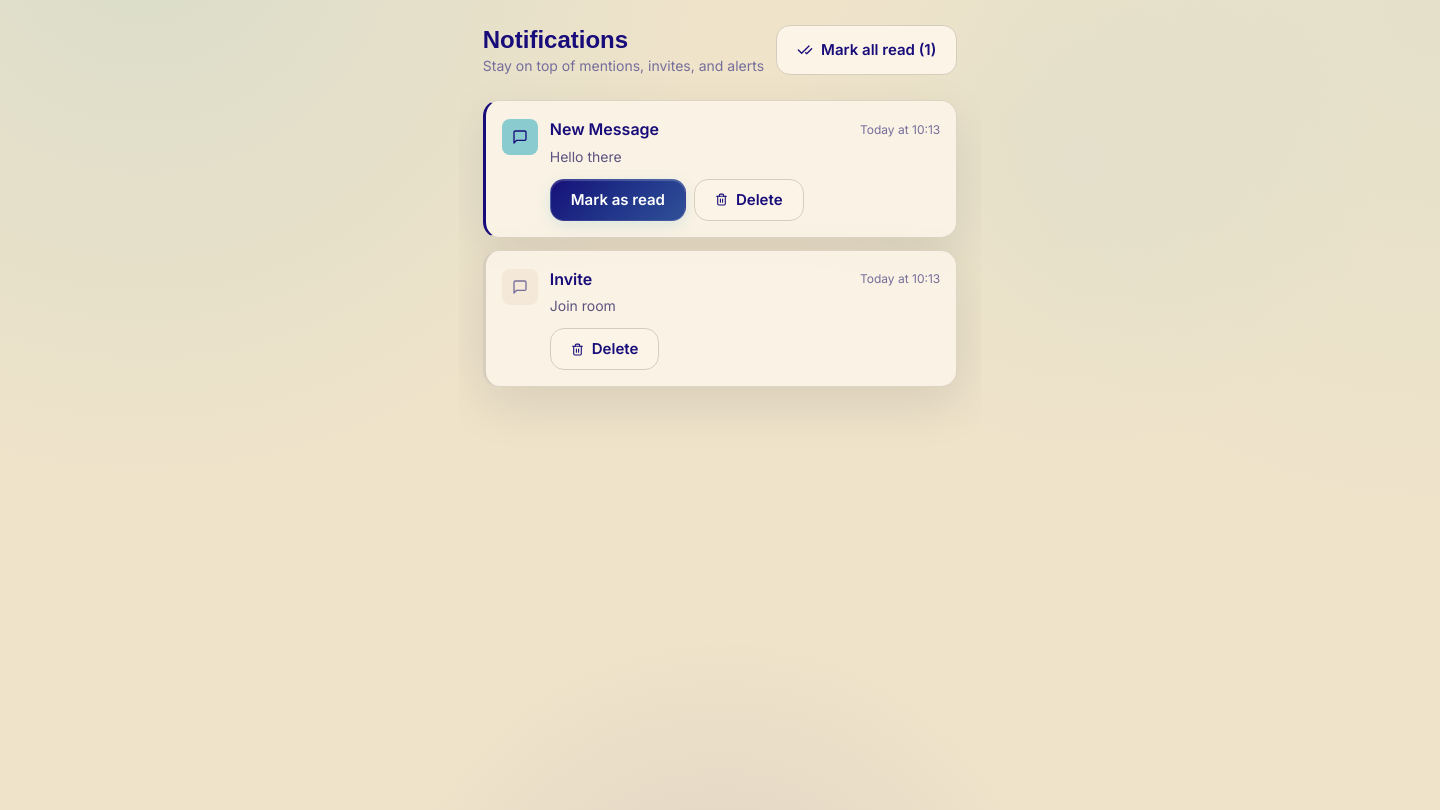
NotificationsPage › removes a notification
Click the button "Delete" below "Hello there".
click(749, 200)  # box [694,179,804,221]
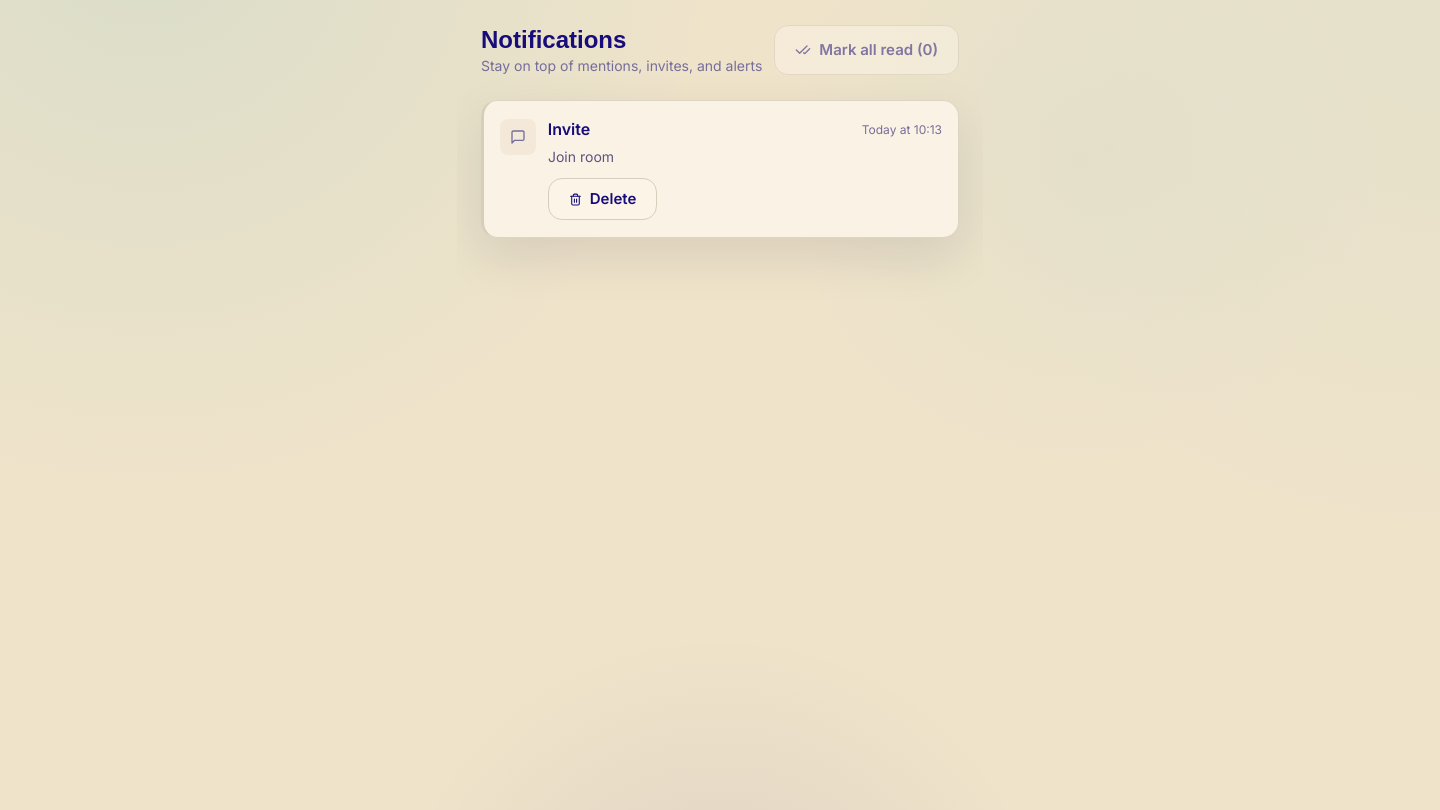
Now the text "New Message" is gone
